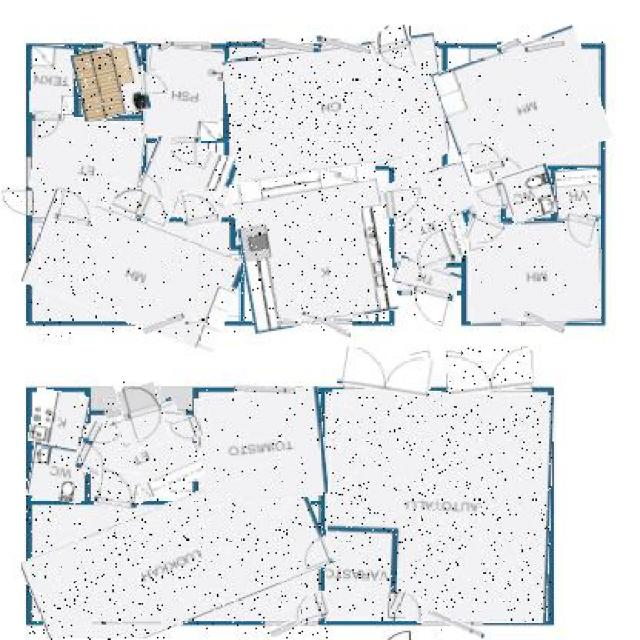door: (338, 349, 432, 394), (446, 348, 532, 394), (119, 377, 166, 449), (104, 185, 174, 223), (76, 422, 121, 478), (376, 26, 416, 72), (96, 469, 142, 509), (410, 286, 452, 328), (411, 231, 454, 271), (180, 189, 218, 228), (56, 190, 96, 224), (465, 215, 503, 248), (384, 188, 424, 218), (472, 183, 514, 211), (469, 140, 503, 174), (561, 214, 594, 248), (391, 592, 429, 620), (169, 415, 205, 443), (1, 188, 38, 215), (294, 594, 329, 621), (172, 137, 203, 166), (36, 114, 61, 141), (142, 72, 169, 96)
window: (226, 40, 446, 175), (26, 206, 240, 337), (235, 166, 394, 328), (438, 36, 604, 176), (468, 220, 602, 323), (30, 117, 144, 218), (390, 163, 496, 266), (140, 139, 237, 223), (145, 46, 223, 139), (74, 43, 148, 119), (503, 166, 557, 222), (31, 46, 74, 114), (394, 260, 460, 297), (556, 170, 598, 218), (420, 612, 486, 632), (269, 612, 322, 632), (302, 317, 352, 332), (523, 315, 566, 331), (316, 40, 372, 52), (262, 42, 320, 52), (143, 317, 186, 329), (235, 386, 297, 394), (524, 41, 564, 50), (499, 40, 523, 52), (171, 43, 211, 49), (106, 409, 125, 417), (105, 42, 129, 48), (92, 622, 160, 624), (500, 320, 522, 326), (278, 320, 298, 326), (158, 41, 171, 50), (163, 412, 186, 416), (185, 322, 208, 324)
zone: (326, 390, 552, 622), (26, 478, 329, 640), (197, 389, 325, 503), (84, 403, 198, 506), (29, 446, 86, 502), (31, 391, 88, 446)
